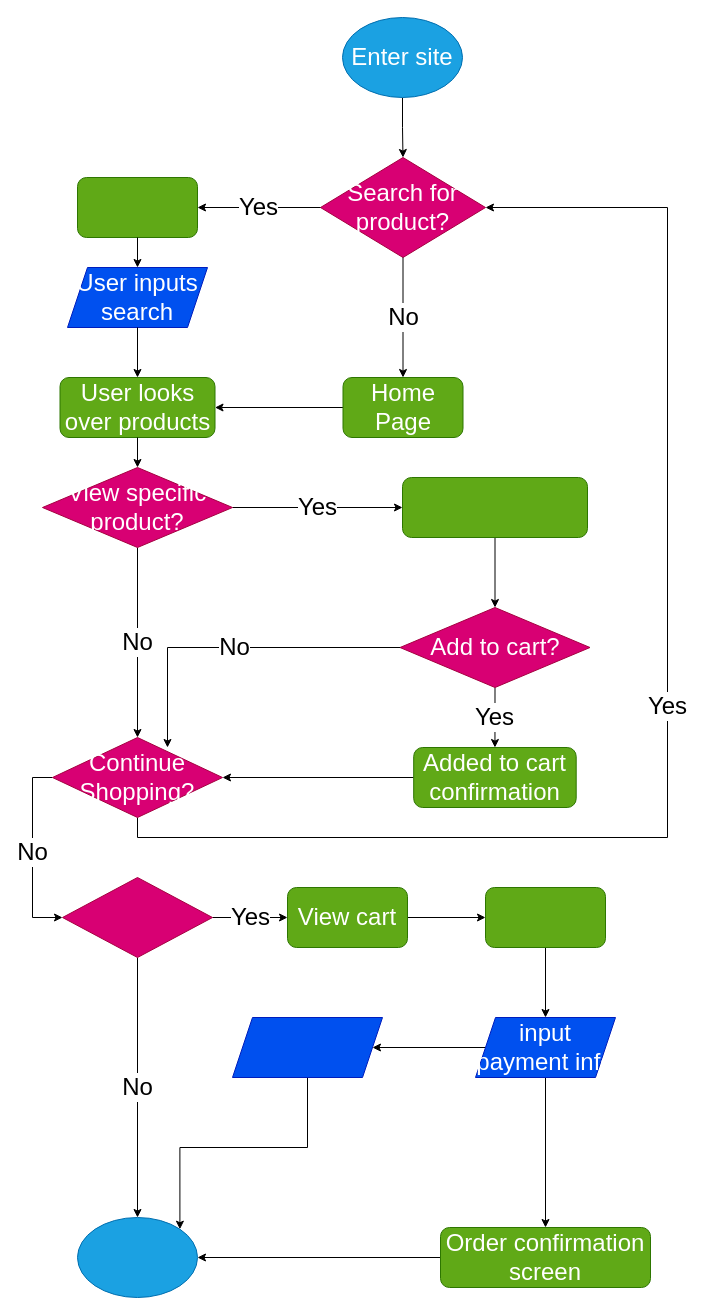
This 704x1315 diagram has some shape labels left out. Each missing label, with the centre of its shape:
"Checkout?" belongs at [137,917].
"Leave site" belongs at [137,1257].
"Product's webpage opens" belongs at [495,507].
"Search" belongs at [137,207].
"User receives email" belongs at [307,1047].
"View Payment" belongs at [545,917].
